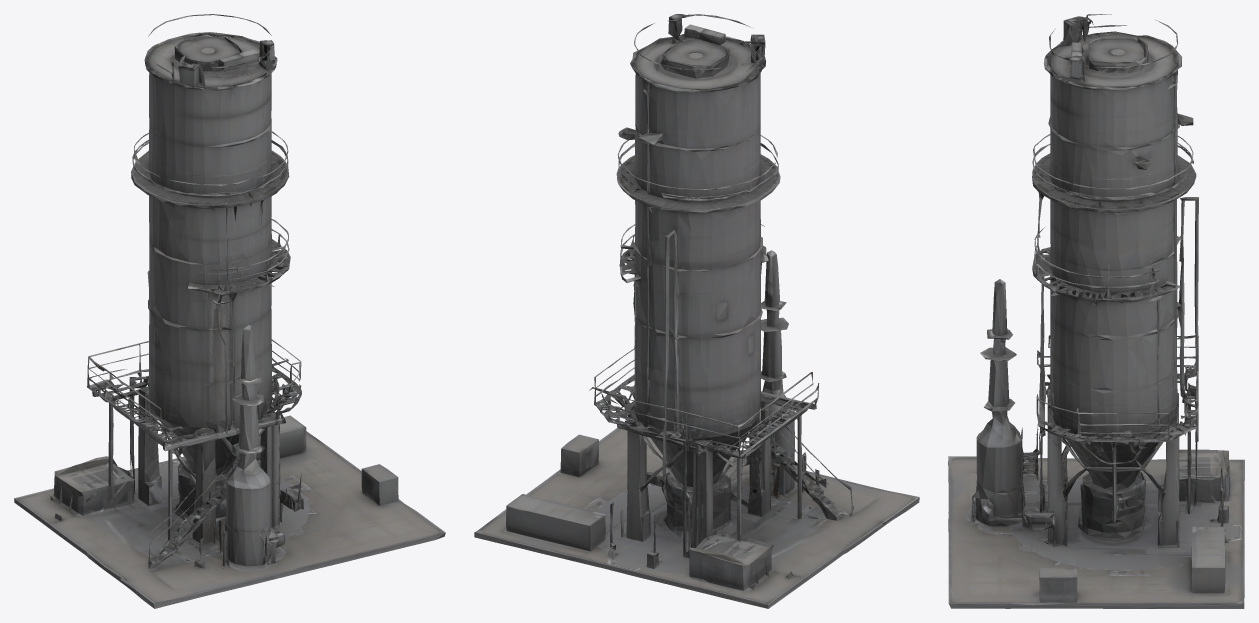
File: Torre.fbx
3 views of the same model, side by side, from view 1: azimuth 30°, elevation 25°; view 2: azimuth 150°, elevation 25°; view 3: azimuth 270°, elevation 25° (orthographic). The views are drawn at different scales.
Parts seen in each view (by area): view 1: temp; view 2: temp; view 3: temp.
Boxes of the visible parts, box(x1,y1,x2,y2) form: temp: box(14, 14, 445, 608); temp: box(474, 14, 919, 608); temp: box(948, 14, 1244, 608).
Size of the model in its own units: 126 by 197 by 108.
Materials: 1 (1 with a texture image).
